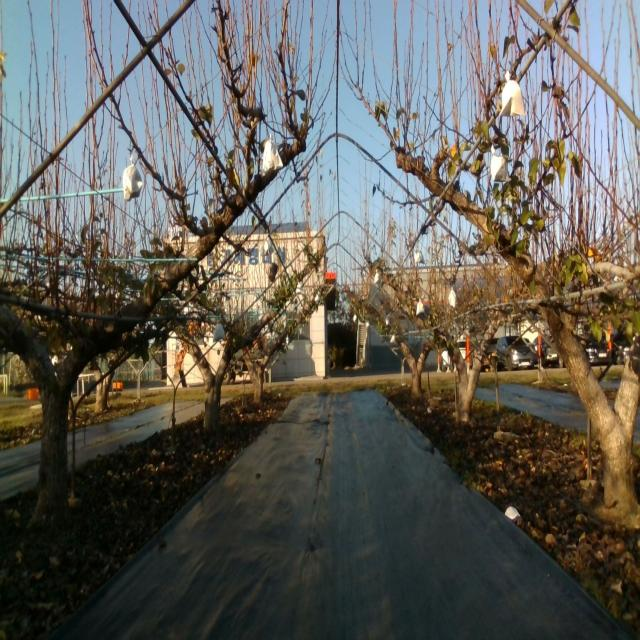pearbags: (498, 73, 528, 120), (122, 154, 144, 201), (489, 144, 510, 186), (263, 136, 283, 177), (213, 323, 226, 343), (263, 237, 275, 257)
